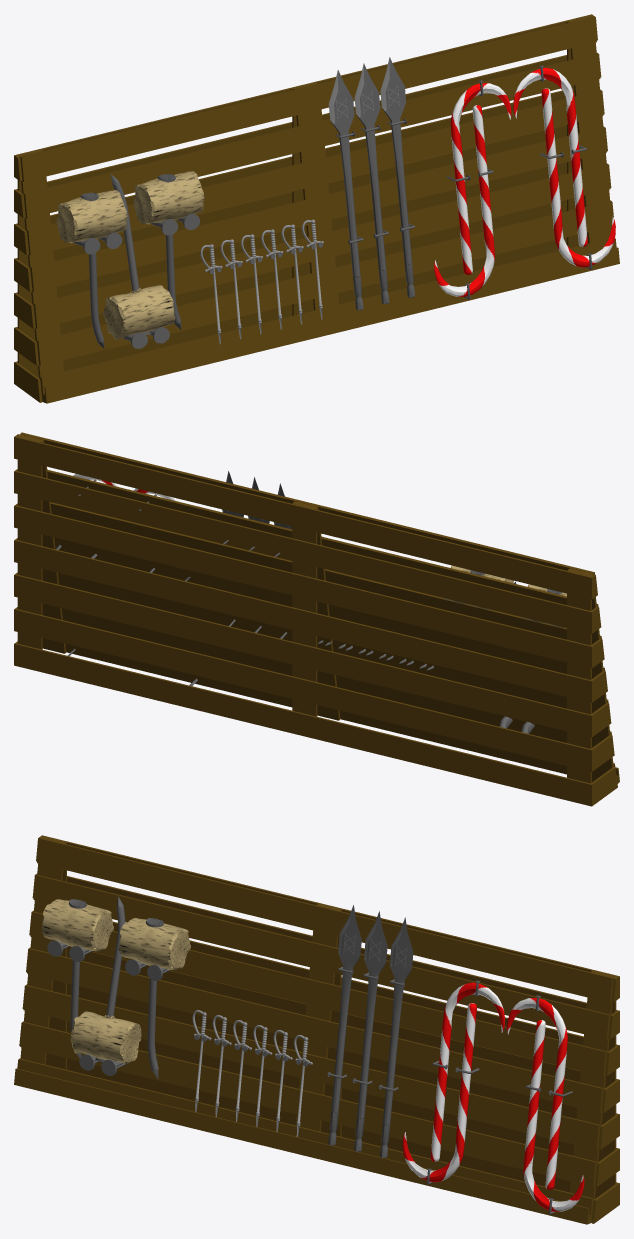
File: simple estante armas personaje.fbx
3 renders of one model, top to bottom at view 1: azimuth 30°, elevation 25°; view 2: azimuth 150°, elevation 25°; view 3: azimuth 330°, elevation 25°, orthographic.
Visible parts, largest first — view 1: estante, estante.004, guadañas, lanzas, martillo, martillo.001, martillo.002, lanza, espadas, guadaña, soporte martillos, estante.002 (+2 smaller); view 2: estante.004, estante, estante.002, estante.003; view 3: estante, estante.004, guadañas, lanzas, martillo.002, martillo.001, martillo, lanza, espadas, guadaña, estante.002, soporte martillos (+1 smaller).
Part boxes in pixels (x1,y1,x2,y2): estante: (19,16,619,403); estante.004: (14,14,616,402); guadañas: (434,67,615,296); lanzas: (354,57,414,304); martillo: (56,190,127,348); martillo.001: (102,174,175,339); martillo.002: (133,171,204,329); lanza: (328,70,363,310); espadas: (220,219,323,339); guadaña: (450,83,511,274); soporte martillos: (73,213,200,348); estante.002: (17,15,591,377); estante.004: (14,434,617,806); estante: (19,432,619,783); estante.002: (17,436,591,783); estante.003: (292,503,317,716); estante: (14,837,614,1224); estante.004: (17,835,619,1223); guadañas: (402,998,584,1211); lanzas: (354,911,413,1158); martillo.002: (118,917,190,1079); martillo.001: (70,896,141,1063); martillo: (41,899,113,1058); lanza: (328,905,361,1145); espadas: (212,1015,312,1136); guadaña: (430,982,504,1161); estante.002: (42,836,616,1198); soporte martillos: (47,940,170,1075).
Bounding box in the file's own units: 567 × 226 × 76.62.
